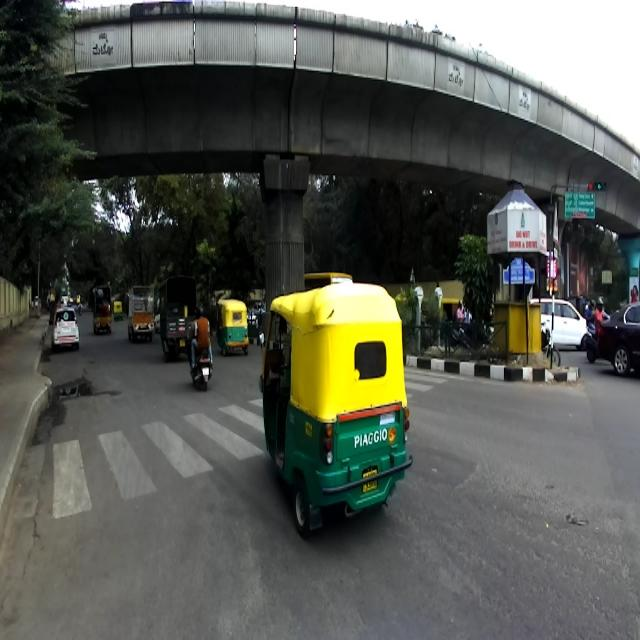Car_Maruti-Suzuki: (50, 305, 79, 350)
Car_Toyota: (528, 297, 592, 351)
autorickshaw: (258, 279, 414, 541)
